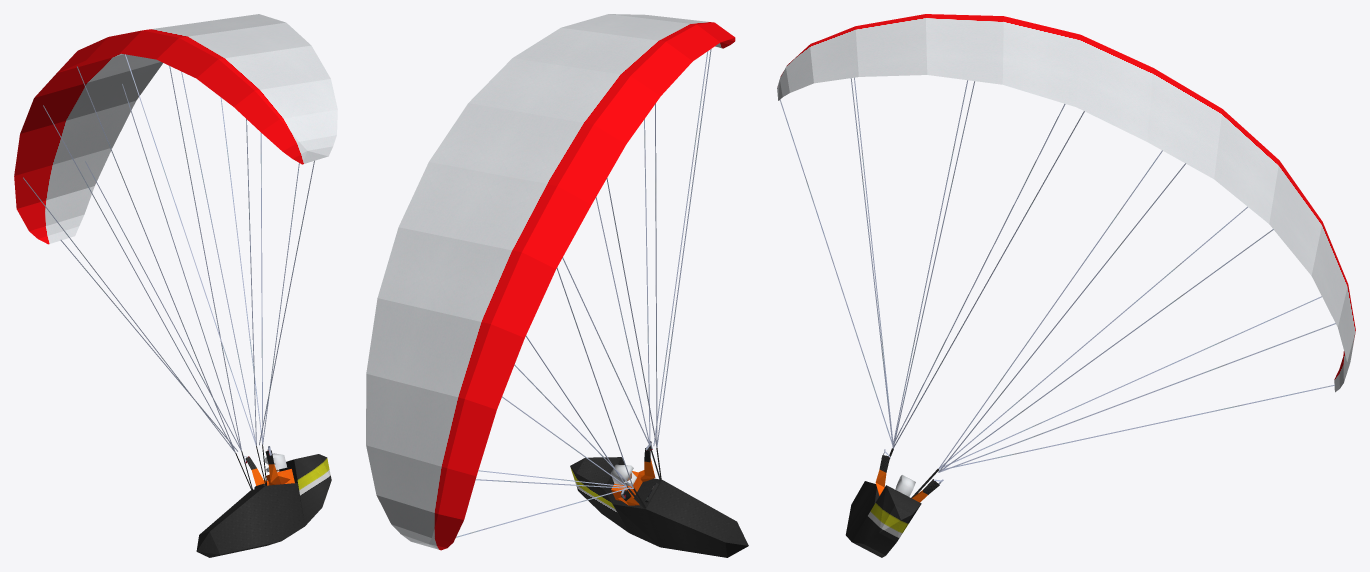
Rendered from paraglider-red-thermal-cbj_LOD02.gltf.
3 views of the same model, side by side, from view 1: azimuth 30°, elevation 25°; view 2: azimuth 150°, elevation 25°; view 3: azimuth 270°, elevation 25° (orthographic). The views are drawn at different scales.
Parts seen in each view (by area): view 1: glider00; view 2: glider00; view 3: glider00.
Boxes of the visible parts, bbox=[...] form: glider00: bbox=[14, 14, 337, 557]; glider00: bbox=[366, 14, 748, 557]; glider00: bbox=[777, 14, 1355, 557].
Size of what is drawn, in the model's own units: 2.86 by 8.13 by 8.14.
